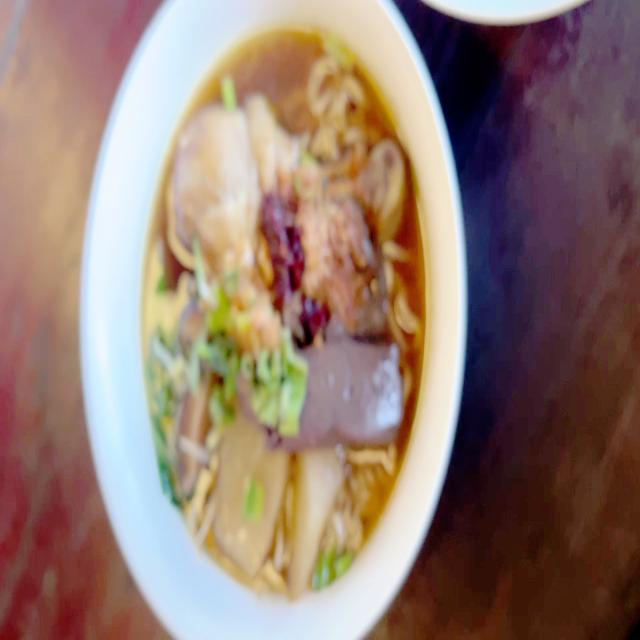boiled_chicken_blood_jelly: (296, 337, 396, 437)
chicken_drumstick: (176, 118, 404, 252)
daikon_radish: (210, 434, 283, 560), (289, 458, 348, 584)
noodle: (132, 16, 422, 597)
